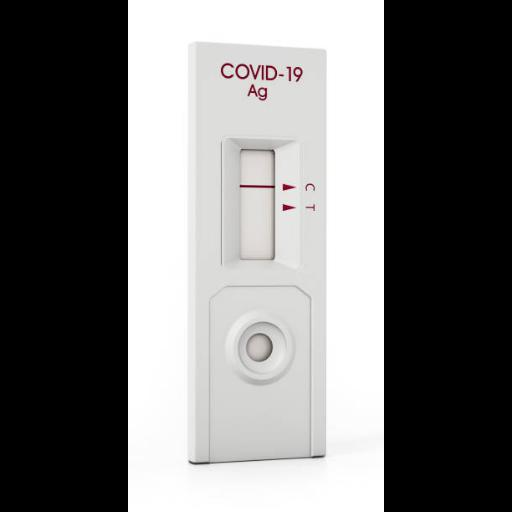Neg: (192, 43, 322, 459)
